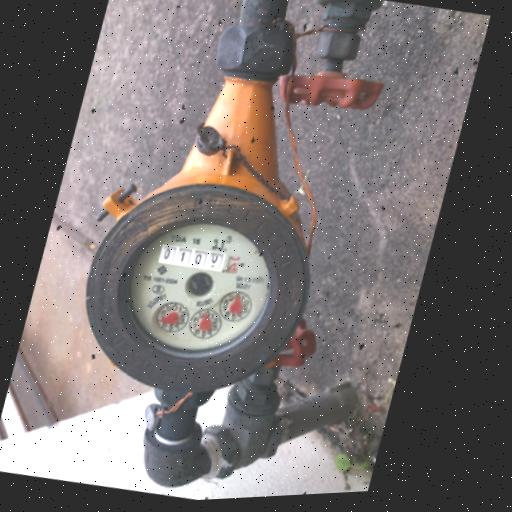0: (161, 246, 176, 263), (192, 250, 207, 267), (209, 252, 224, 269)
1: (177, 248, 192, 265)
4: (225, 256, 240, 273)
border_water_meter_number: (156, 241, 243, 279)
